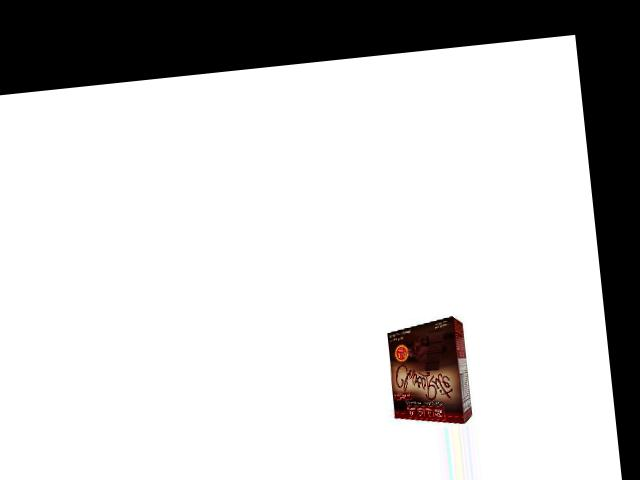chocolate: (383, 315, 472, 428)
